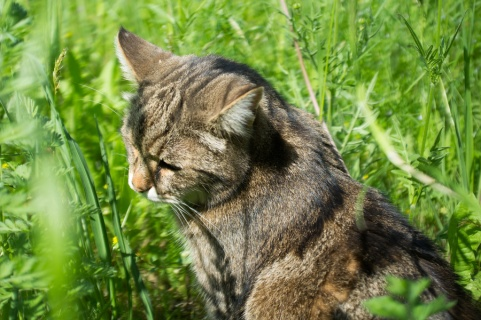Cat: (71, 22, 481, 320)
